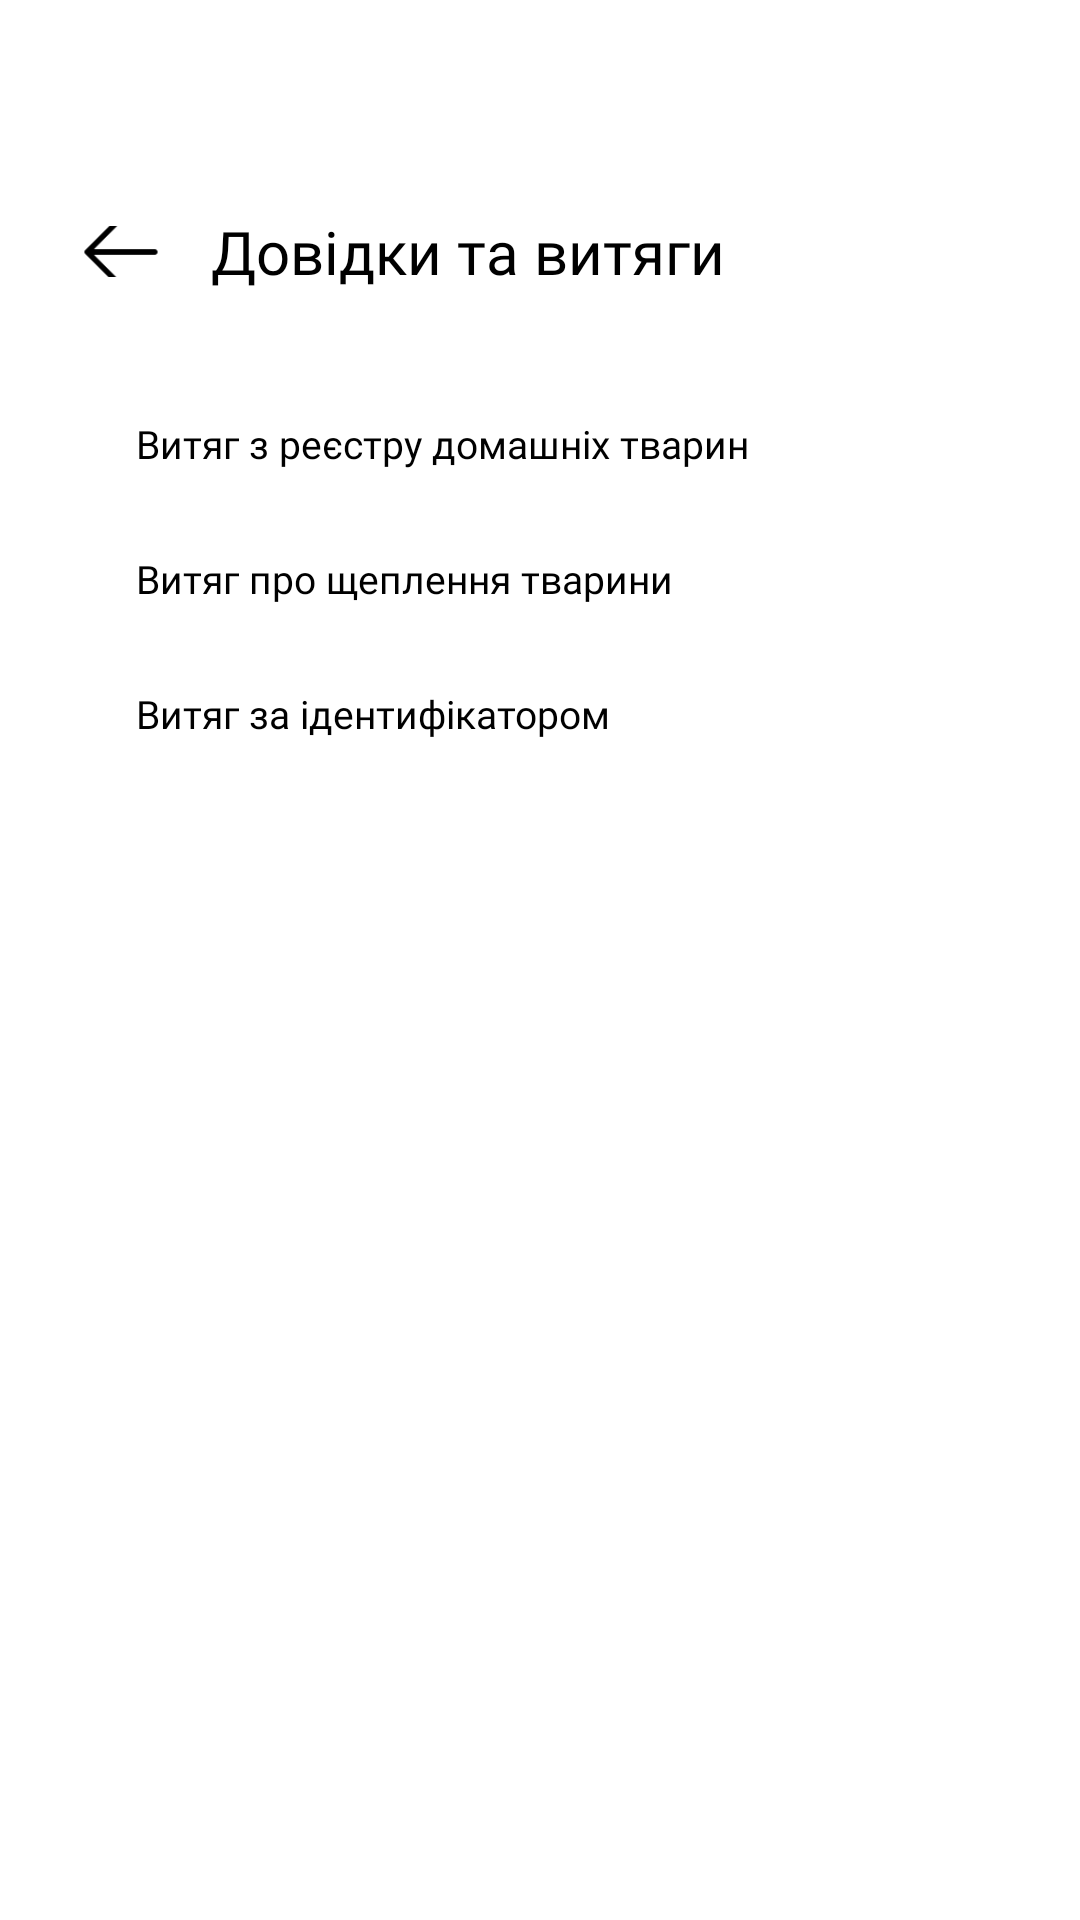

Named icons in this screenshot (1080×1920) and their bounding boxes, (x1, y1, x2, y2):
arrow left: (84, 226, 158, 277)
